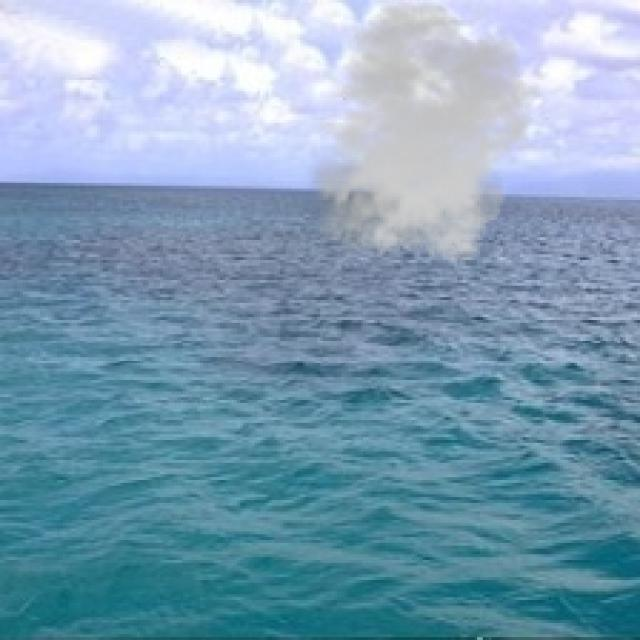smoke: (303, 0, 541, 272)
